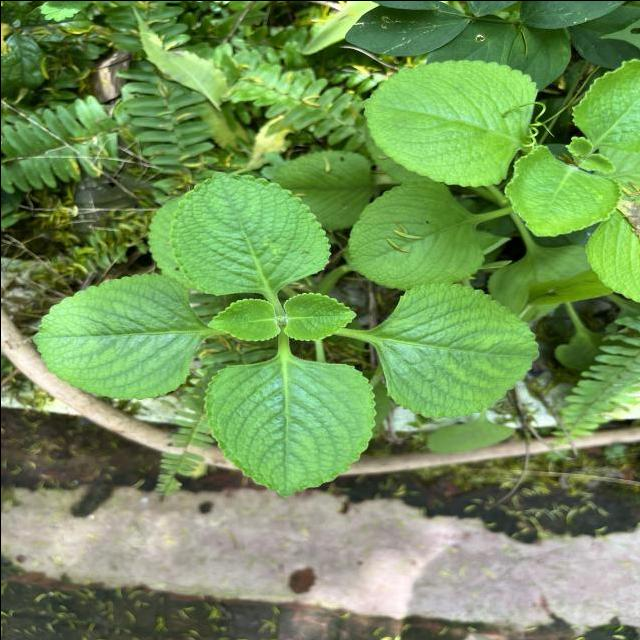Plectranthus barbatus: (201, 360, 377, 498), (368, 280, 540, 419), (361, 59, 538, 188), (31, 270, 202, 400), (166, 170, 332, 296), (346, 178, 484, 284), (502, 143, 622, 237), (282, 290, 358, 342), (206, 296, 281, 342)
